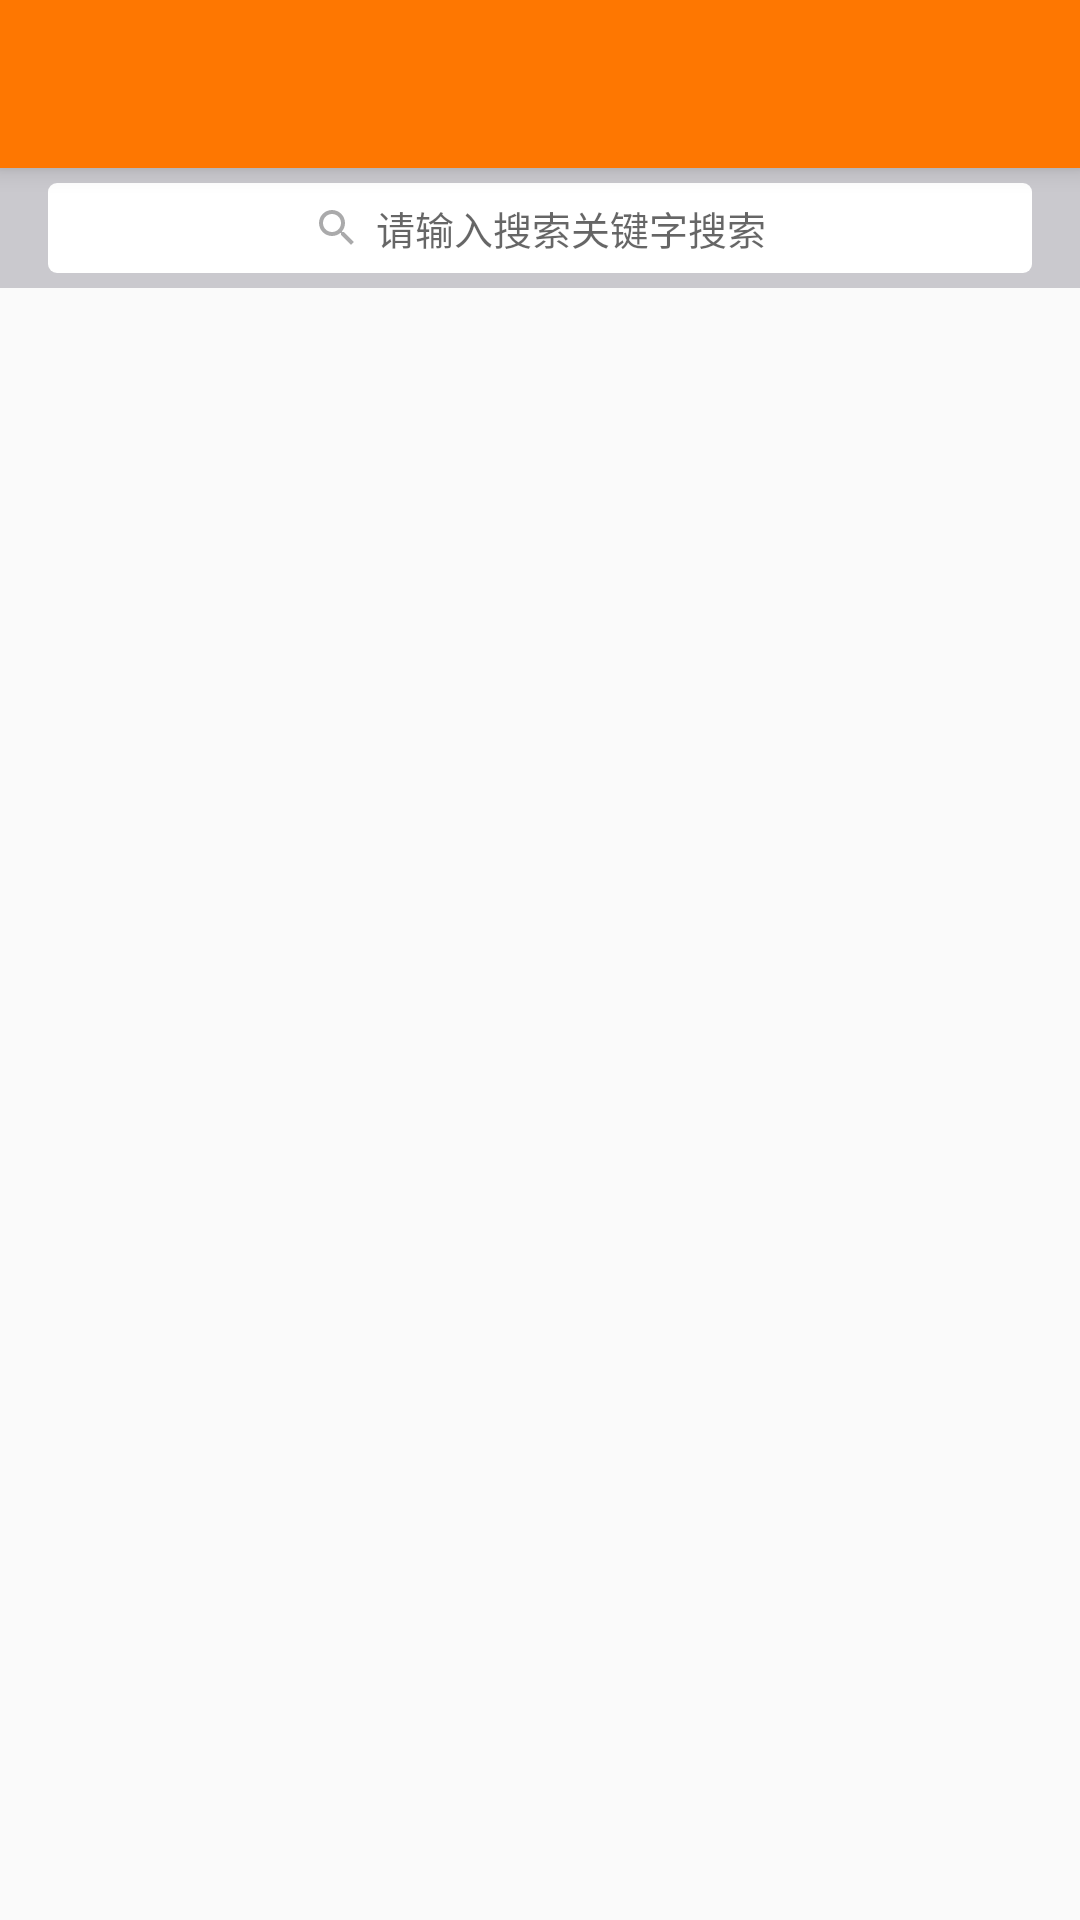

Named icons in this screenshot (1080x1920) and their centers, [x,y]:
search: [336,227]
